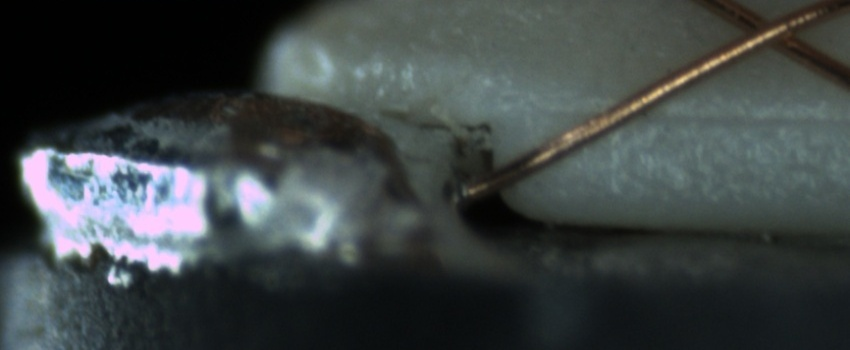CL: (715, 1, 821, 62)
DL: (550, 87, 844, 146)
